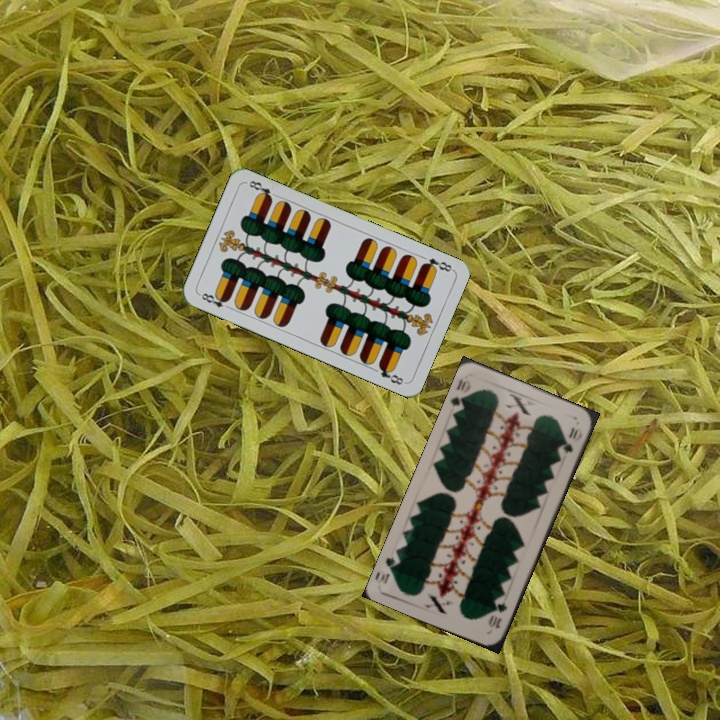E8: (195, 289, 234, 312), (417, 254, 455, 275)
G10: (447, 375, 473, 414), (484, 597, 510, 632)
